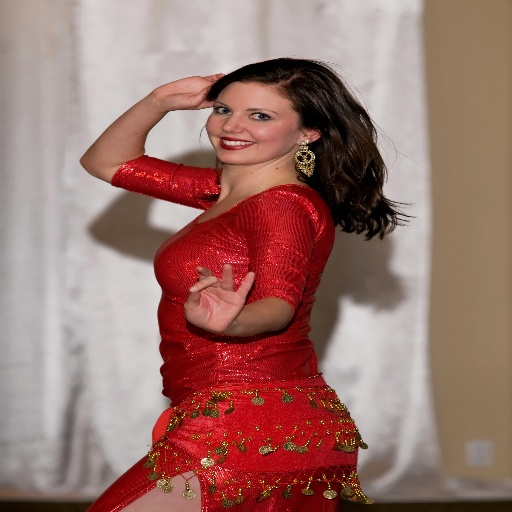hand: (172, 276, 291, 341), (147, 73, 227, 111)
